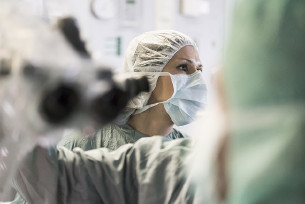face_mask: (160, 51, 206, 123)
